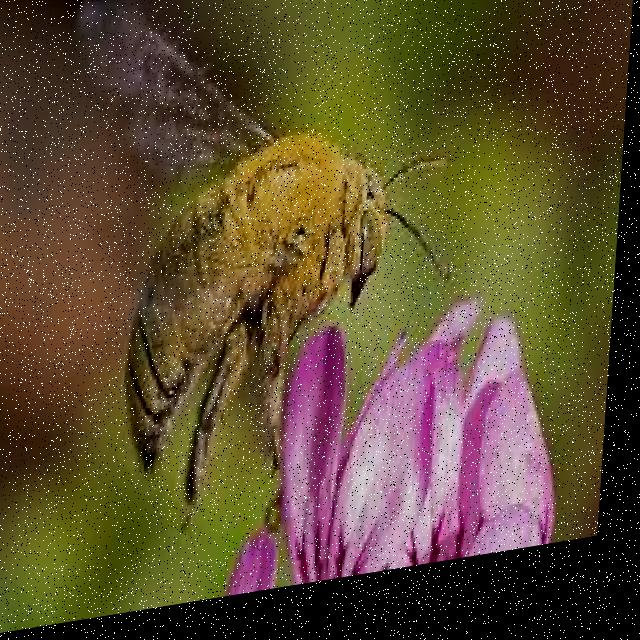Xylocopa: (52, 0, 460, 518)
